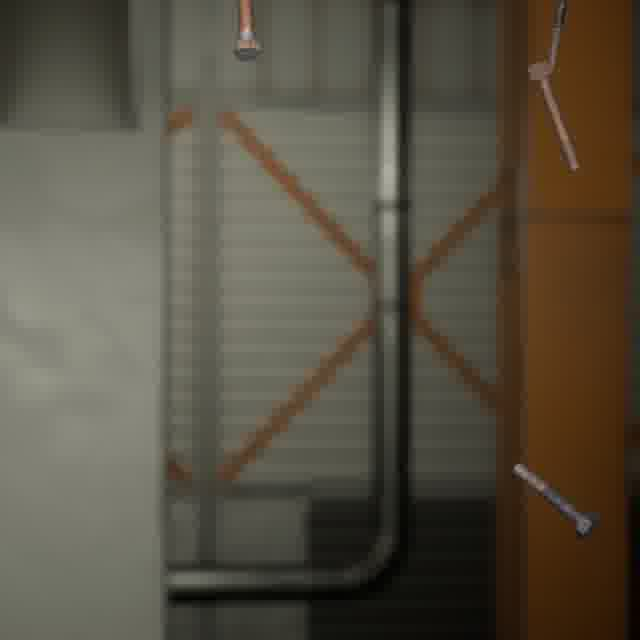bolt: (508, 457, 604, 543), (521, 56, 584, 175), (542, 0, 576, 73), (229, 0, 264, 65)
